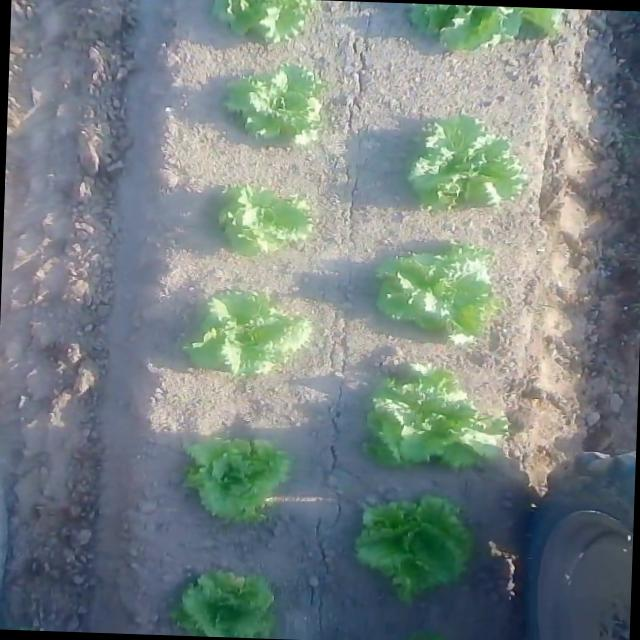Lettuce-Ready-to-Harvest: (361, 488, 484, 600), (162, 424, 292, 526)
